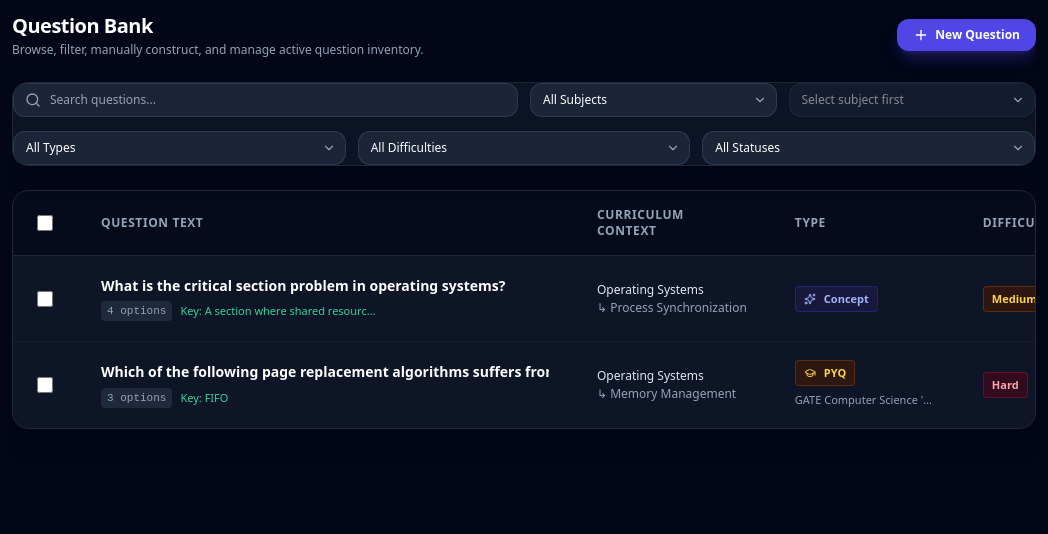
Test: Admin Question Management UI (PROMPT 13) › supports selecting questions and performing bulk activation
Note: Select all questions on current page
Click the checkbox named "Select all questions on this page". click: (45, 223)
box: [37, 215, 53, 231]
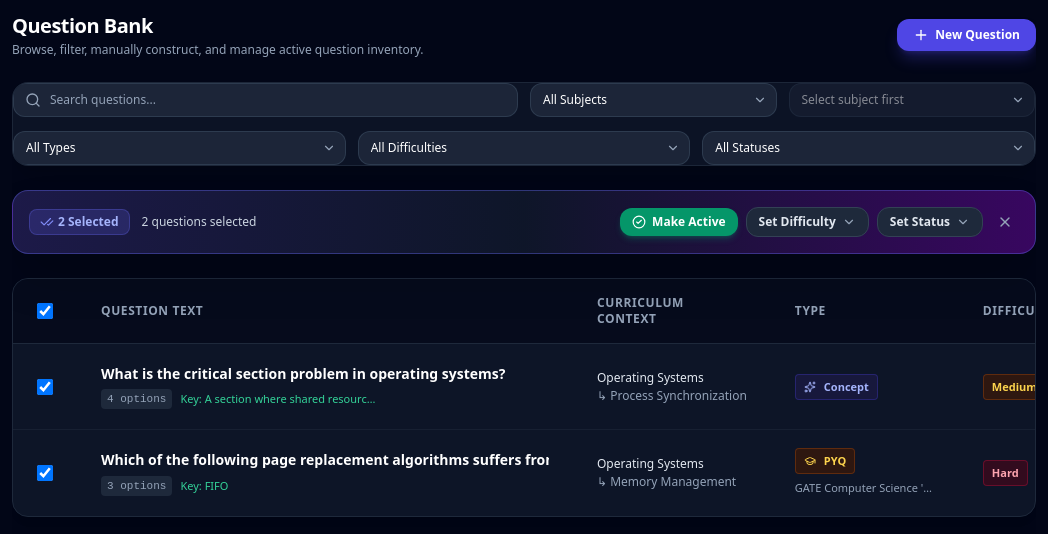
Expected: the text "2 Selected" is shown, [29, 209, 130, 235]
Expected: the button "Make Active" is shown
Note: Click Make Active
Click the button "Make Active". click: (679, 222)
box: [620, 208, 738, 236]
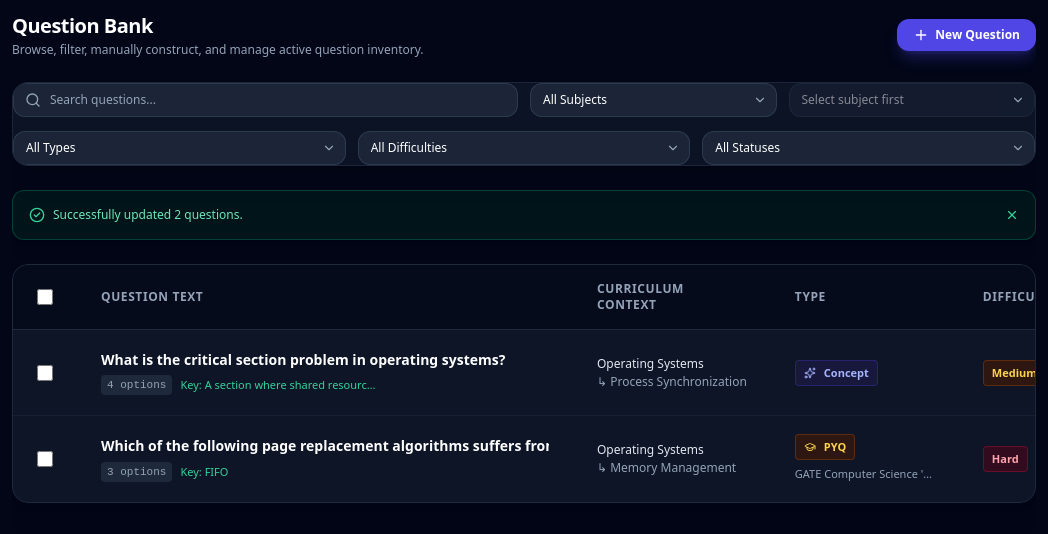
Expected: the text "Successfully updated 2 questions." is shown, [53, 207, 243, 223]
